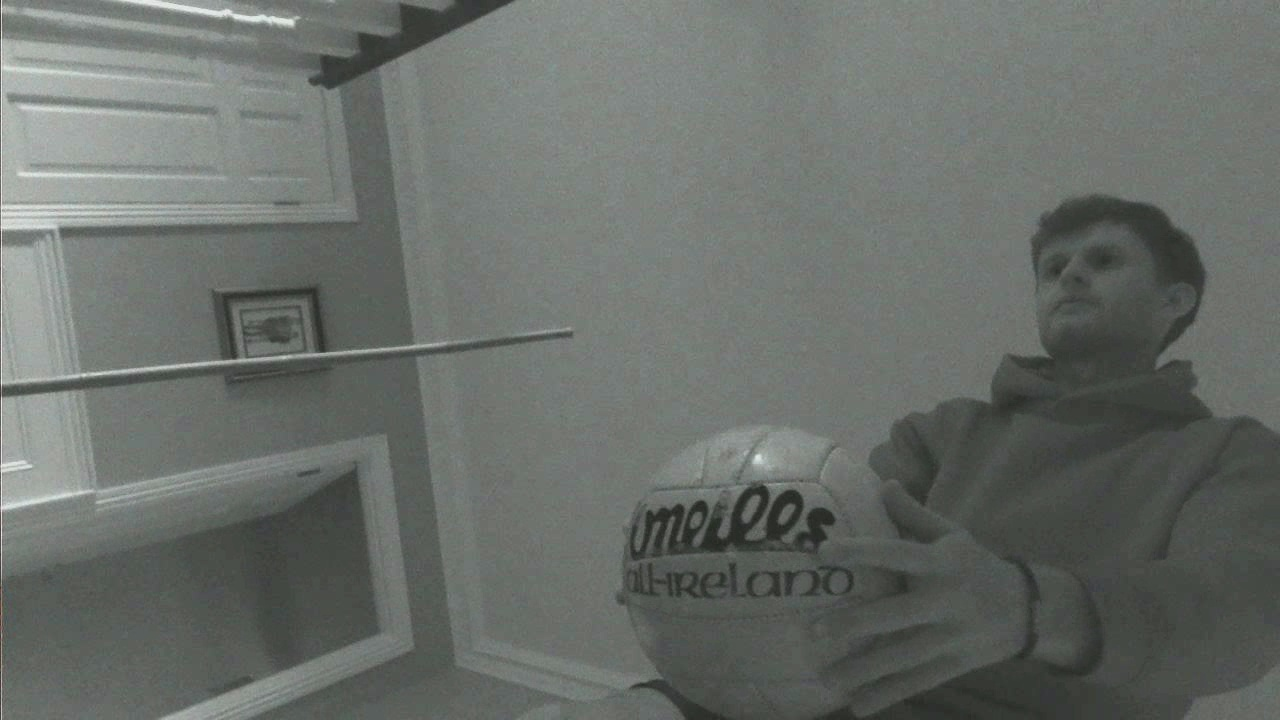Football-Spotter: (621, 428, 896, 719)
